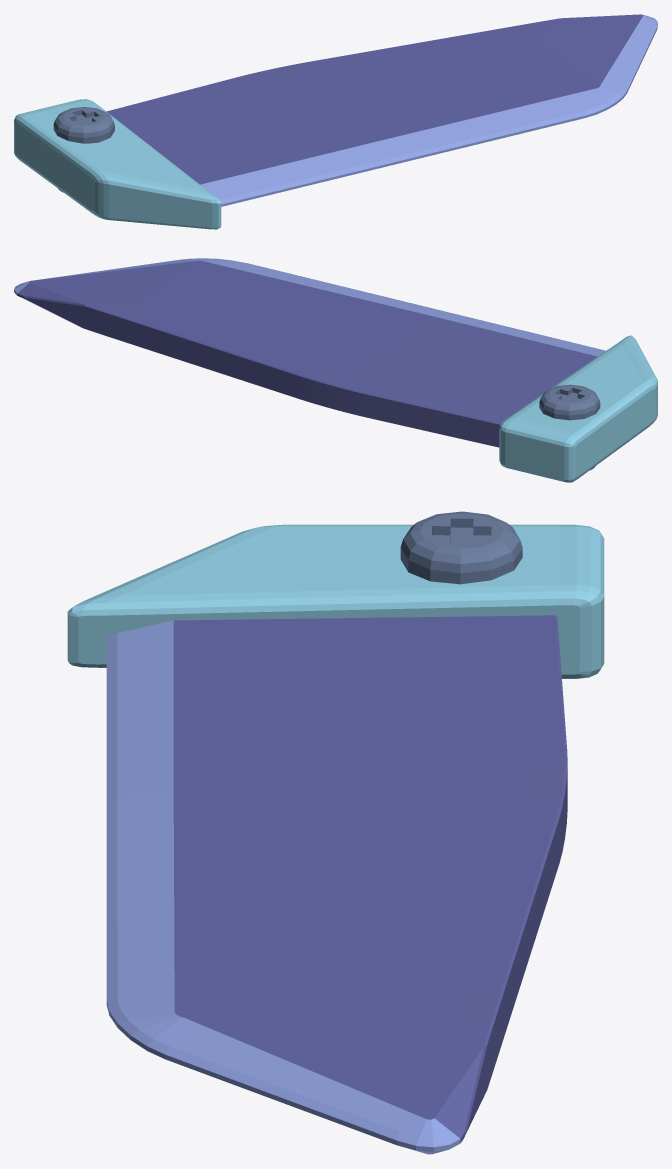
Rendered from BWingR.fbx.
3 views of the same model, one above another, from view 1: azimuth 30°, elevation 25°; view 2: azimuth 150°, elevation 25°; view 3: azimuth 270°, elevation 25° (orthographic). The views are drawn at different scales.
Visible parts, largest first — view 1: BWing.R; view 2: BWing.R; view 3: BWing.R.
Part boxes in pixels (x1,y1,x2,y2): BWing.R: [14, 14, 657, 229]; BWing.R: [14, 258, 657, 482]; BWing.R: [67, 511, 604, 1154].
Size of the model in its own units: 980 by 110 by 381.
